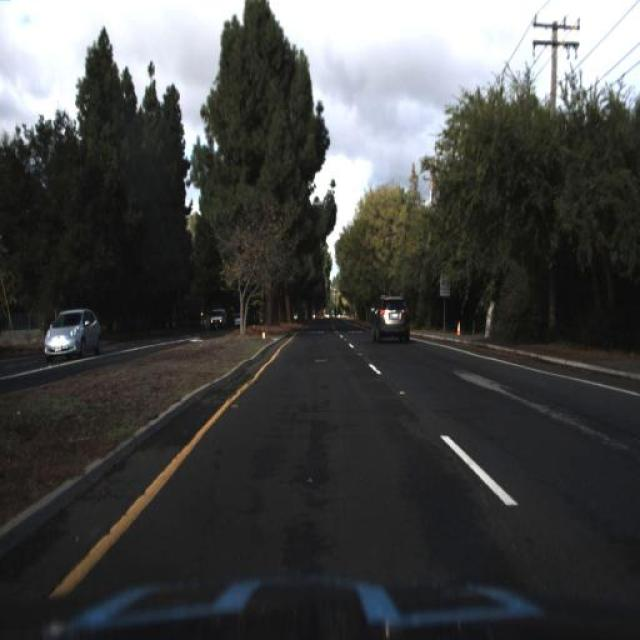car: (44, 307, 105, 363), (370, 294, 410, 350), (207, 303, 225, 335), (209, 304, 226, 332)
